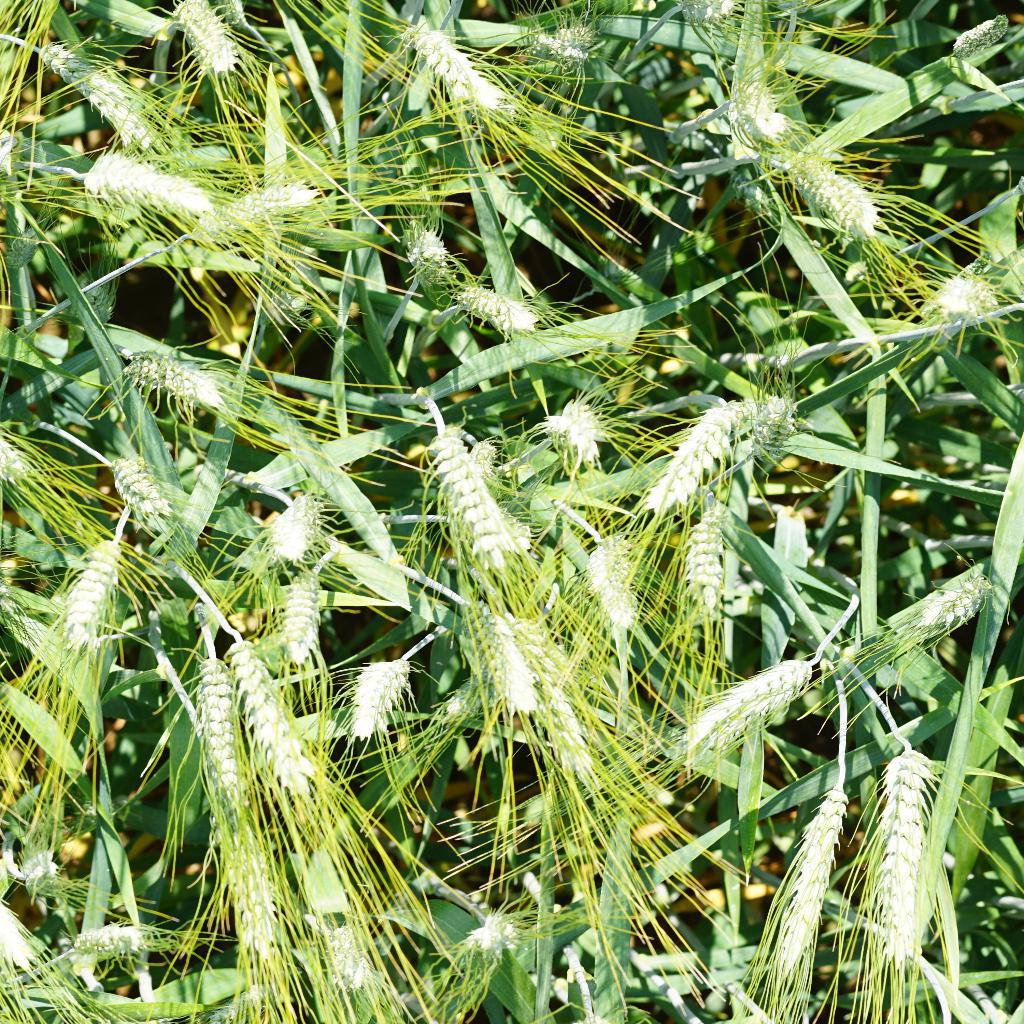0-0: (473, 584, 626, 791), (761, 746, 854, 991), (866, 705, 945, 987), (656, 645, 825, 762), (201, 796, 299, 990), (219, 632, 326, 802), (40, 34, 174, 153), (415, 414, 520, 563), (646, 366, 740, 519), (393, 12, 516, 124), (75, 148, 217, 238), (774, 146, 893, 245), (182, 641, 253, 803), (347, 638, 428, 755), (463, 598, 546, 710), (52, 526, 126, 645), (191, 183, 332, 243), (71, 438, 175, 519), (115, 335, 235, 404), (658, 509, 732, 619), (438, 490, 547, 561), (899, 568, 1001, 641), (923, 254, 1002, 348), (66, 914, 186, 972), (167, 0, 244, 90), (256, 481, 333, 569), (305, 911, 380, 1001), (451, 279, 549, 346), (518, 12, 613, 81), (585, 527, 641, 639), (538, 387, 616, 467), (272, 563, 332, 665), (940, 0, 1021, 74), (0, 819, 38, 963), (433, 663, 509, 729), (722, 81, 798, 144), (748, 380, 808, 459), (6, 845, 86, 904), (396, 212, 451, 284), (458, 900, 511, 957), (212, 0, 262, 40)
